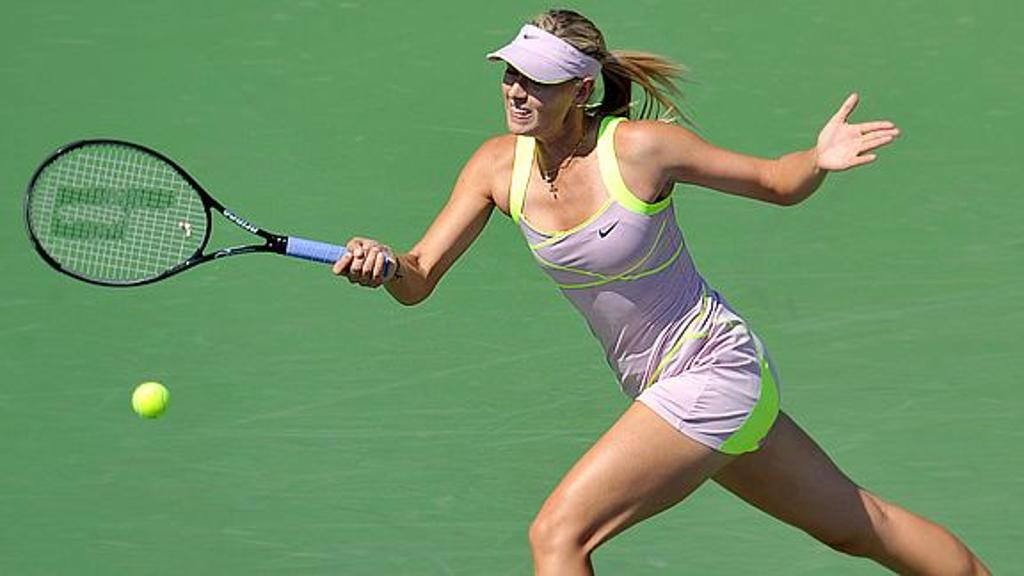face: (504, 56, 580, 134)
